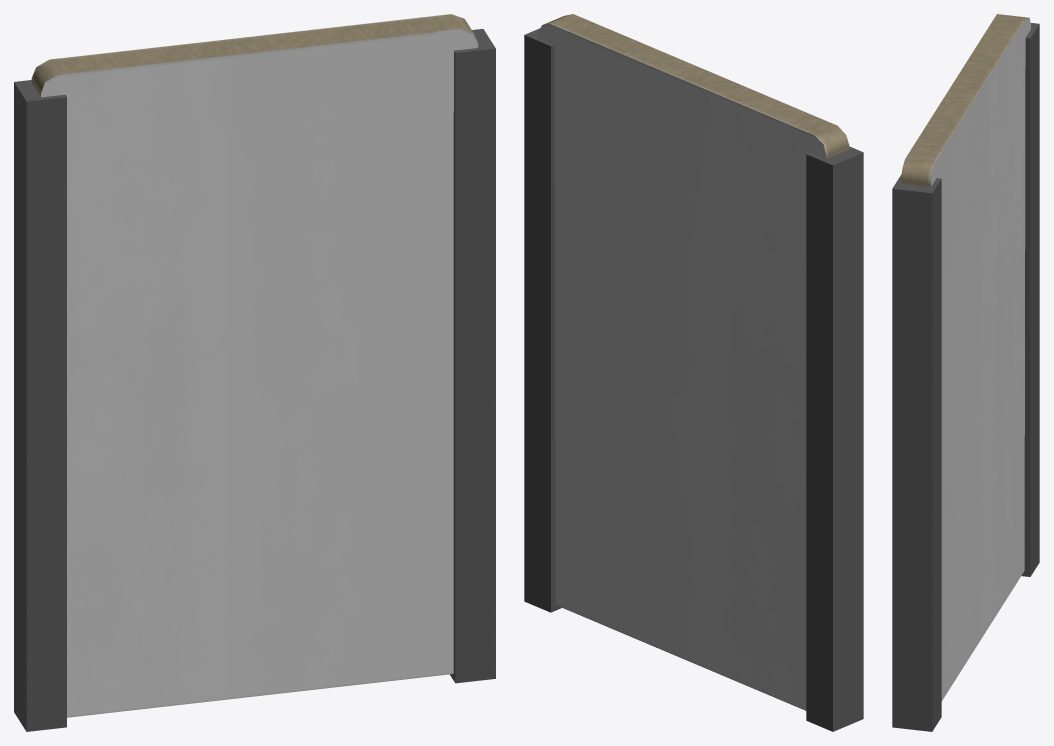
The model's file is Pfb_WC_Door__2.fbx.
The picture shows the model from 3 angles, left to right: view 1: azimuth 30°, elevation 25°; view 2: azimuth 150°, elevation 25°; view 3: azimuth 270°, elevation 25°; orthographic projection. The views are drawn at different scales.
Visible parts, largest first — view 1: MAT_WC_Board_White 2; view 2: MAT_WC_Board_White 2; view 3: MAT_WC_Board_White 2.
Part boxes in pixels (x1=…): MAT_WC_Board_White 2: x1=14, y1=14, x2=495, y2=731; MAT_WC_Board_White 2: x1=524, y1=14, x2=863, y2=731; MAT_WC_Board_White 2: x1=892, y1=14, x2=1039, y2=731.
Size of the model in its own units: 1.26 by 1.88 by 0.4517.
Materials: 1 (1 with a texture image).
